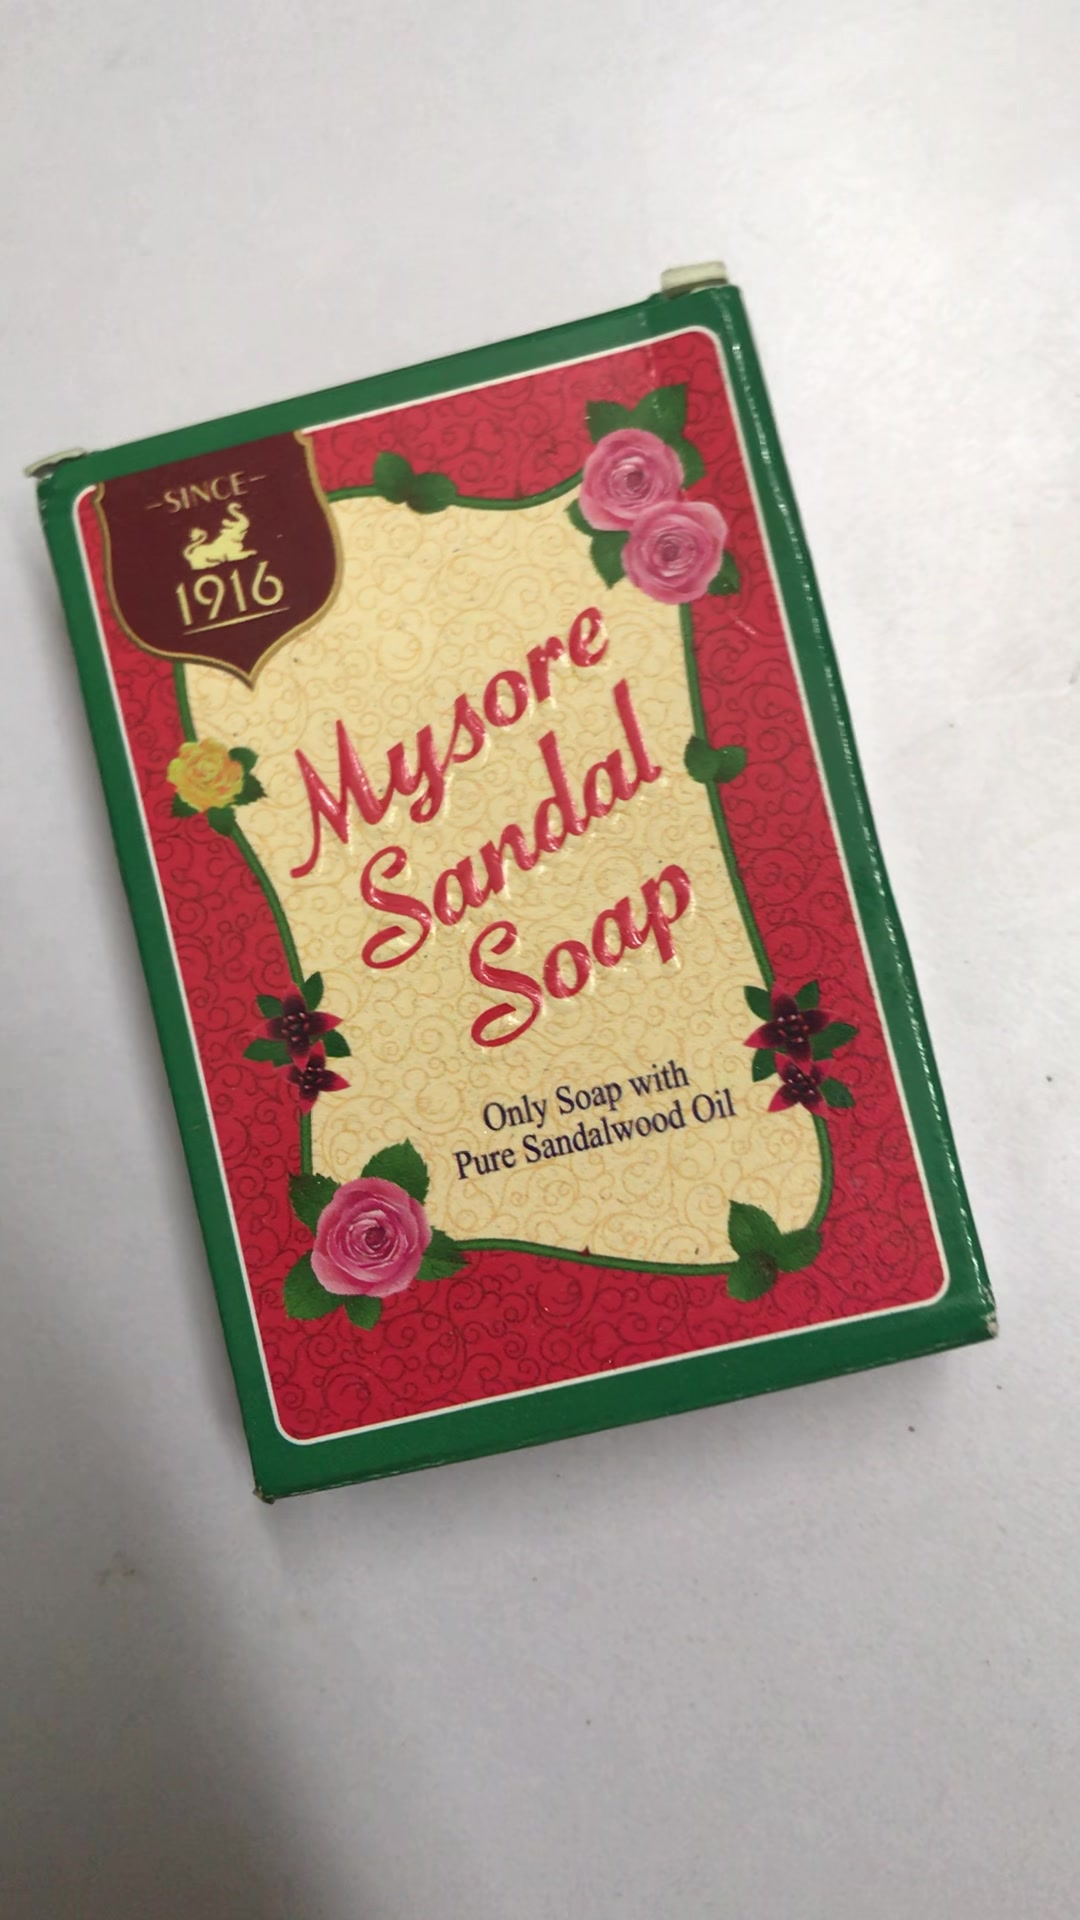mysore sandal soap: (44, 294, 1000, 1490)
